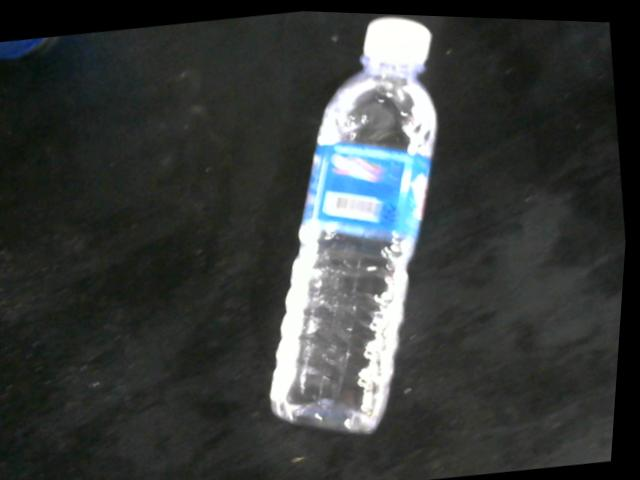bottle: (274, 12, 442, 433)
